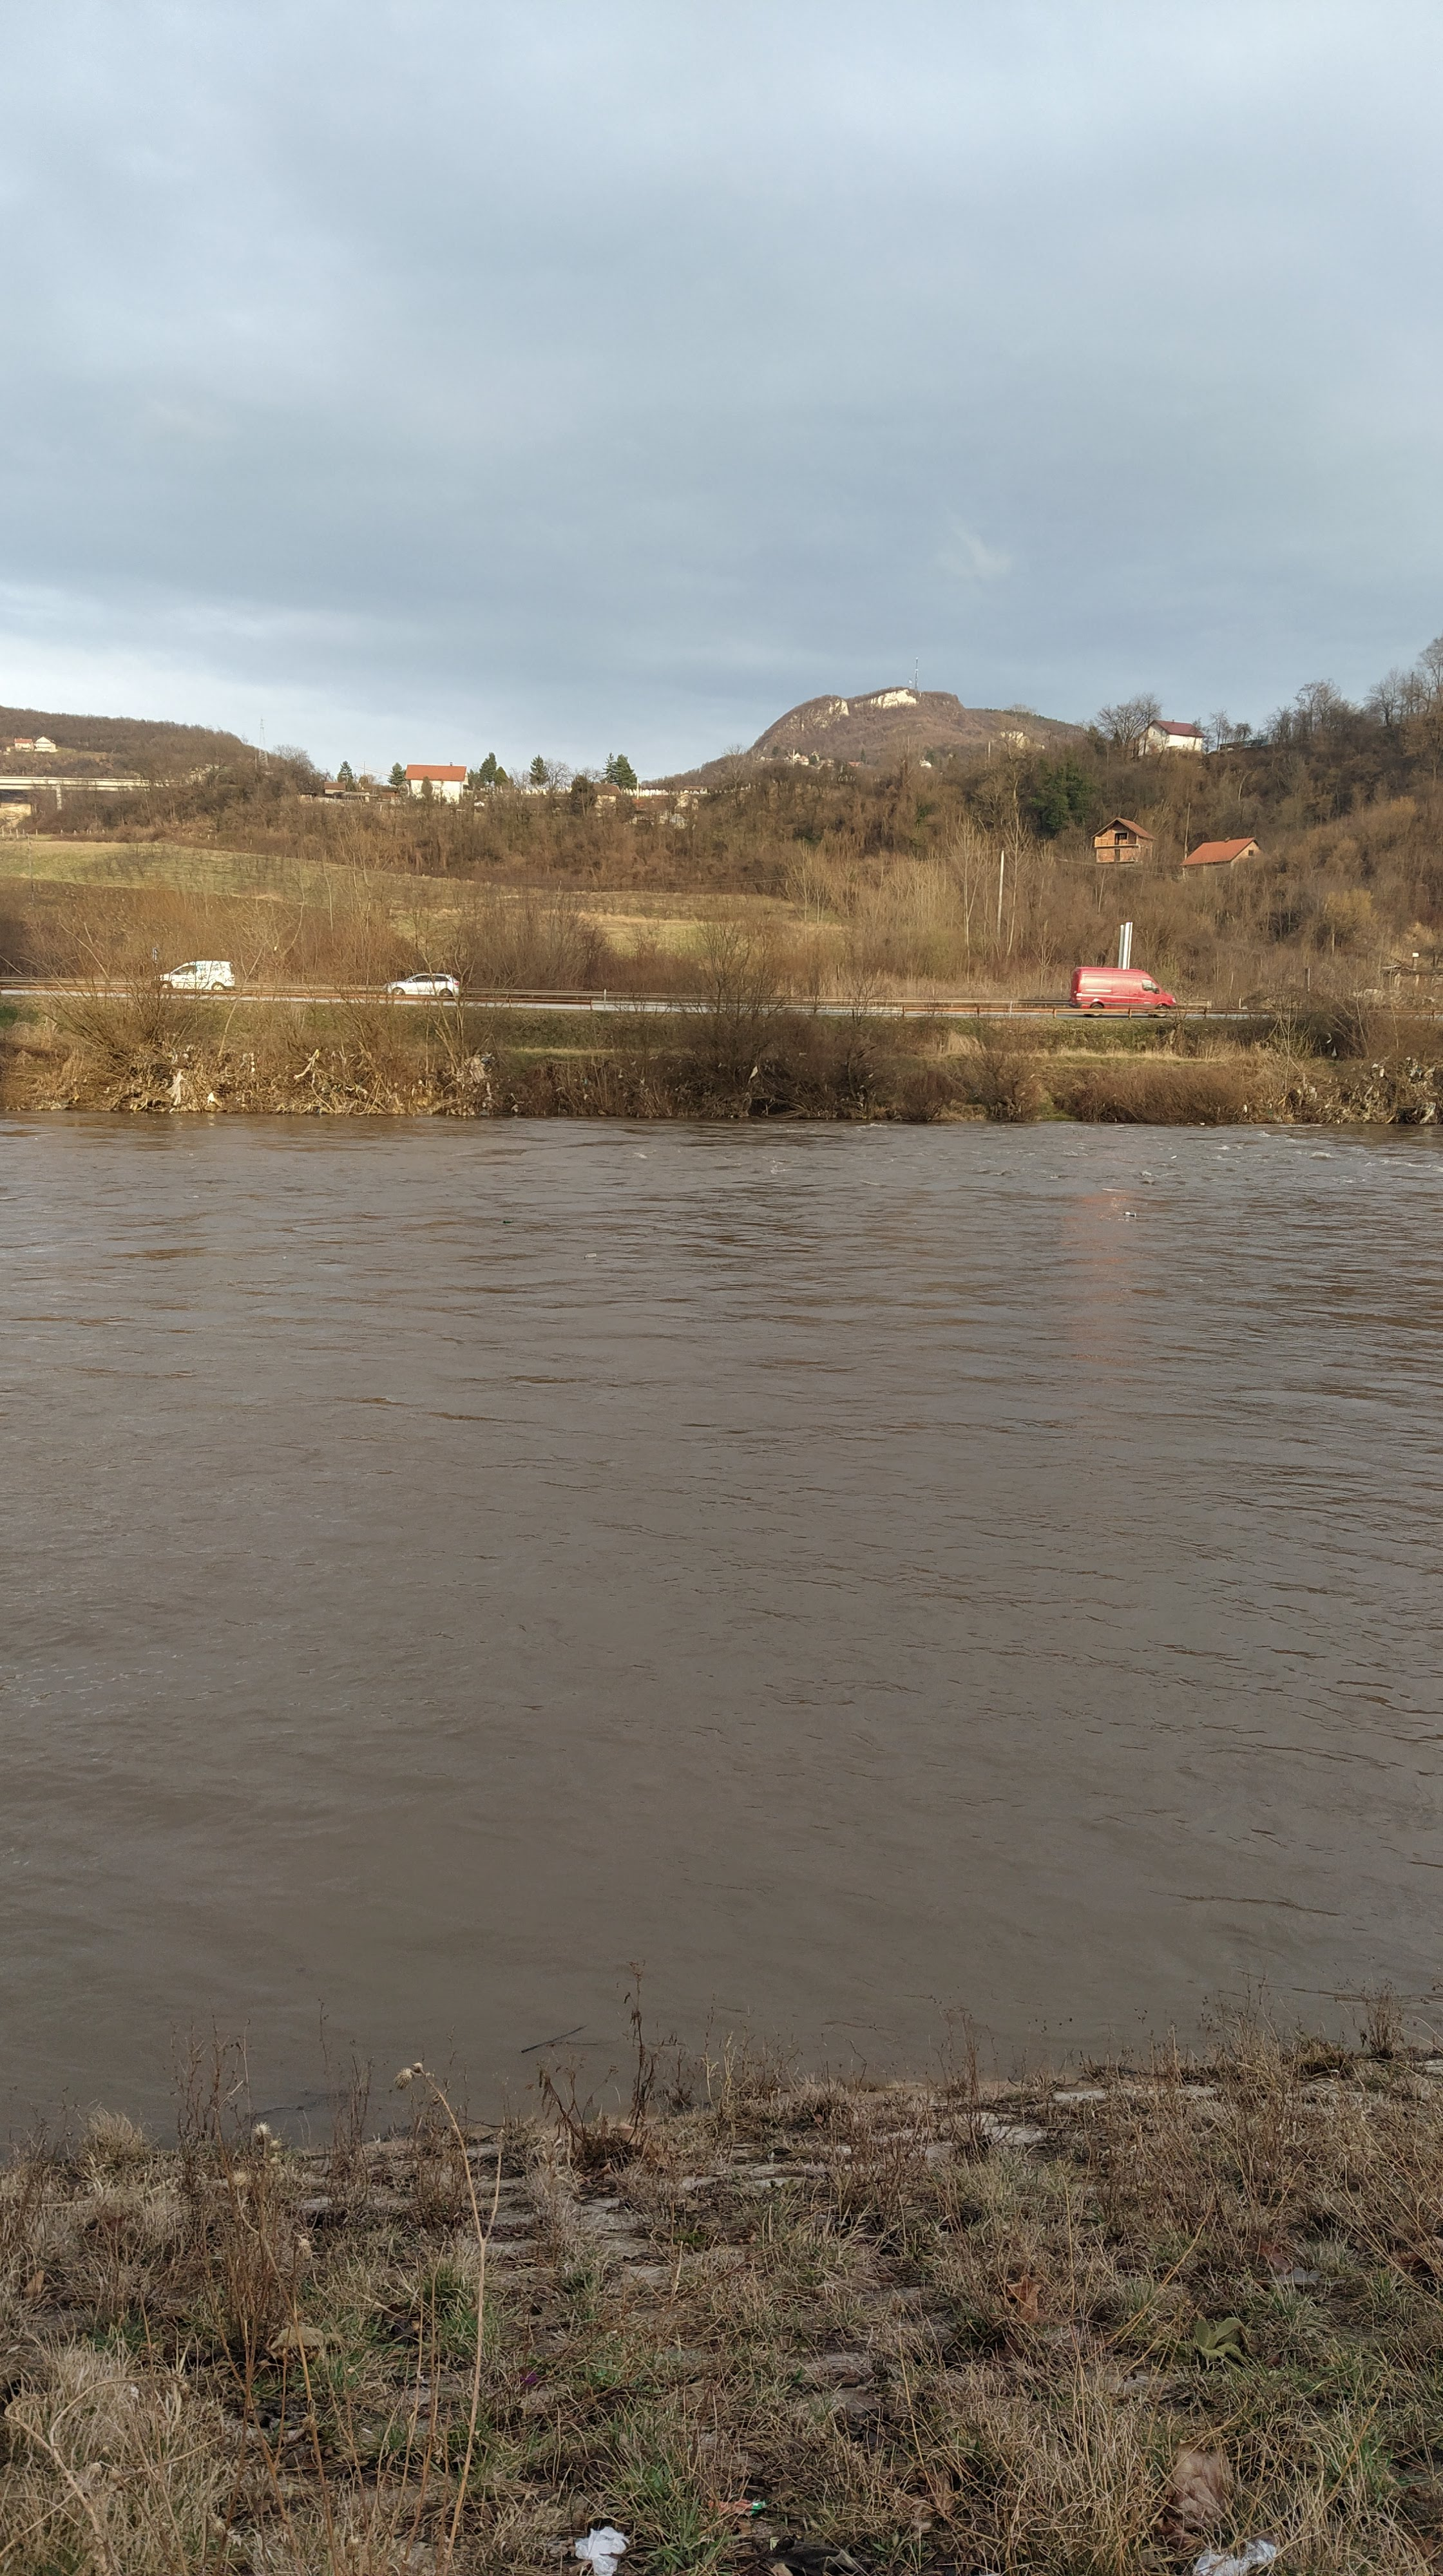Plastic Bottle: (584, 1253, 597, 1260), (1123, 1212, 1137, 1217), (503, 1221, 512, 1224)
